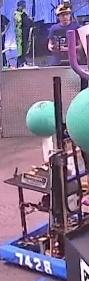blue_number: (13, 251, 54, 277)
